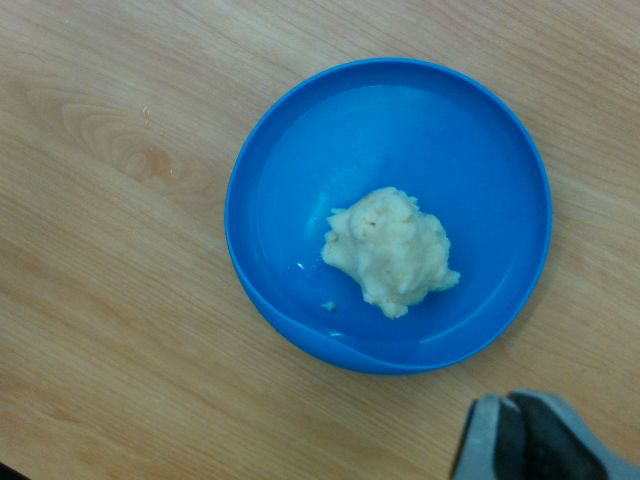mashed_potato: (323, 187, 461, 316)
